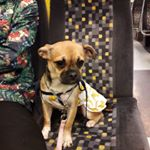puppy: (36, 39, 108, 148)
